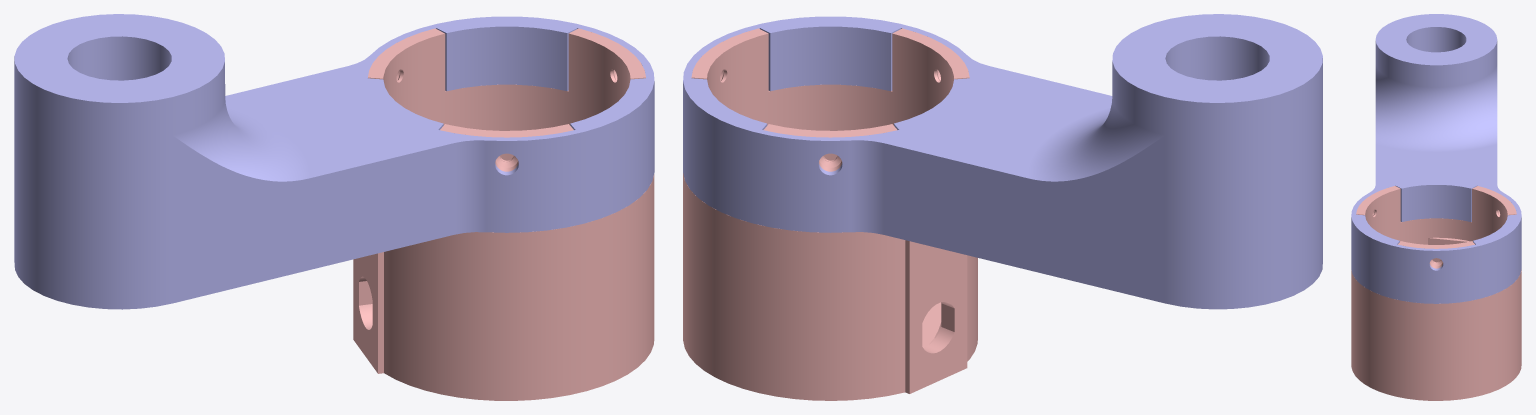
3 renders of one model, left to right at view 1: azimuth 30°, elevation 25°; view 2: azimuth 150°, elevation 25°; view 3: azimuth 270°, elevation 25°, orthographic. The views are drawn at different scales.
Visible parts, largest first — view 1: Top_v9_test; view 2: Top_v9_test; view 3: Top_v9_test.
Part boxes in pixels (x1,y1,x2,y2): Top_v9_test: [14, 14, 654, 400]; Top_v9_test: [683, 14, 1322, 400]; Top_v9_test: [1351, 14, 1521, 400].
Bounding box in the file's own units: 0.1054 × 0.0622 × 0.0444.
